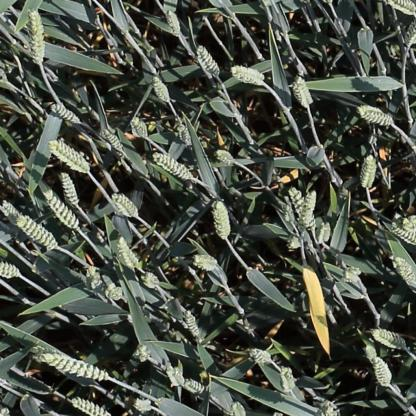whd: (37, 341, 109, 382), (14, 214, 59, 251), (43, 192, 80, 230), (50, 140, 88, 171), (153, 152, 193, 180), (289, 184, 309, 230), (30, 9, 46, 64), (116, 236, 140, 272), (196, 42, 221, 76), (59, 170, 80, 210), (150, 72, 172, 105), (392, 256, 416, 286), (214, 199, 230, 242), (372, 330, 406, 350), (112, 192, 138, 218), (101, 127, 126, 154), (231, 65, 263, 86), (72, 397, 108, 415), (358, 107, 394, 125), (373, 355, 392, 389), (300, 190, 316, 230), (51, 103, 81, 123), (184, 308, 202, 341), (293, 76, 311, 108), (165, 7, 183, 38), (362, 152, 376, 190), (393, 222, 415, 246), (130, 114, 149, 140), (280, 365, 297, 394), (176, 121, 194, 148), (86, 264, 102, 294), (165, 364, 183, 390), (315, 400, 344, 416), (0, 199, 21, 221), (194, 255, 221, 271), (402, 19, 416, 48), (286, 233, 309, 250), (248, 348, 272, 364), (0, 257, 19, 277), (390, 0, 416, 14), (364, 342, 379, 366), (319, 220, 332, 247), (104, 284, 124, 301), (344, 266, 360, 285), (284, 201, 296, 226), (136, 344, 150, 365), (216, 150, 236, 164), (134, 397, 153, 410), (186, 380, 206, 392), (144, 273, 160, 286)
